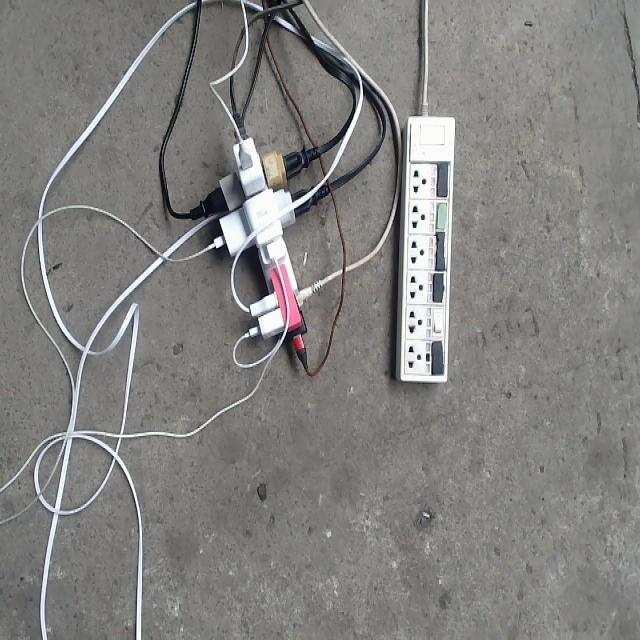-: (207, 133, 307, 360)
